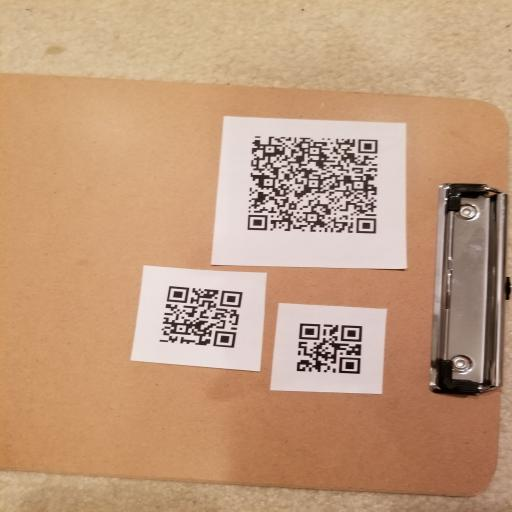QR_CODE: (233, 126, 391, 240), (149, 278, 251, 356), (290, 314, 374, 383)
